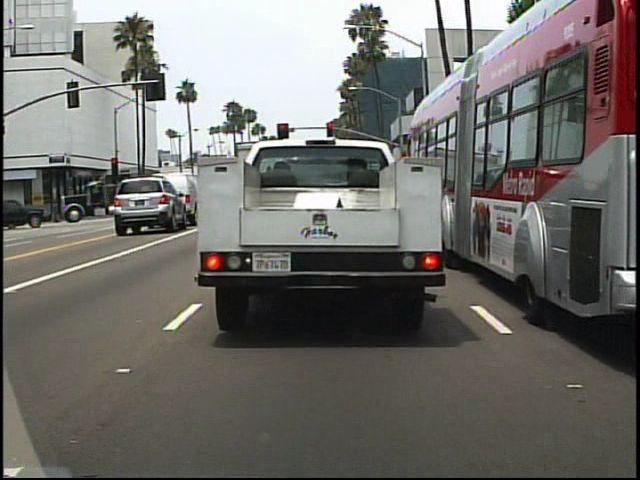person: (37, 195, 45, 226)
